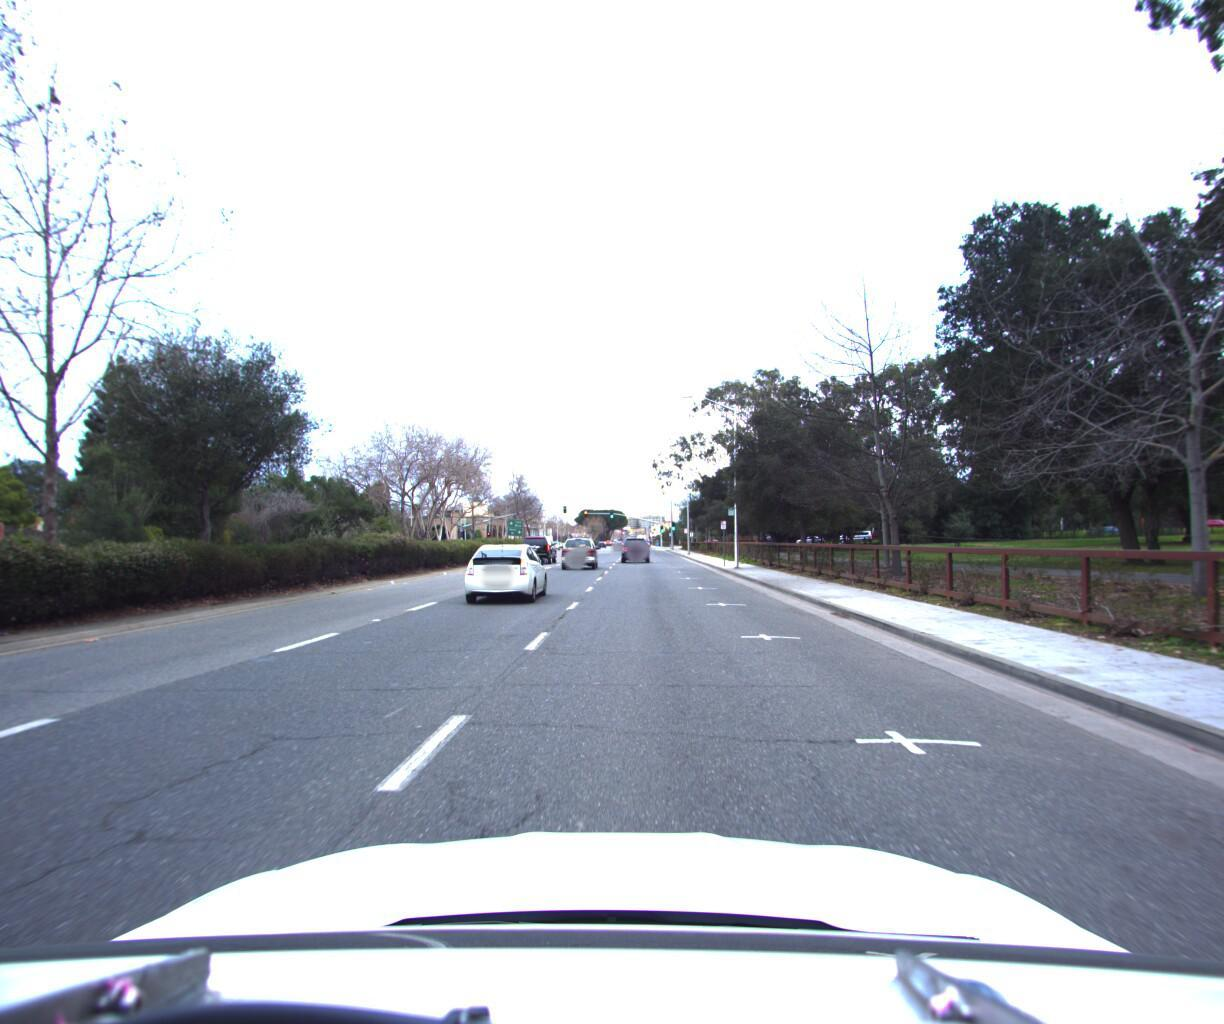car: (458, 536, 554, 603), (559, 530, 598, 565), (522, 529, 559, 560), (618, 532, 649, 559)
